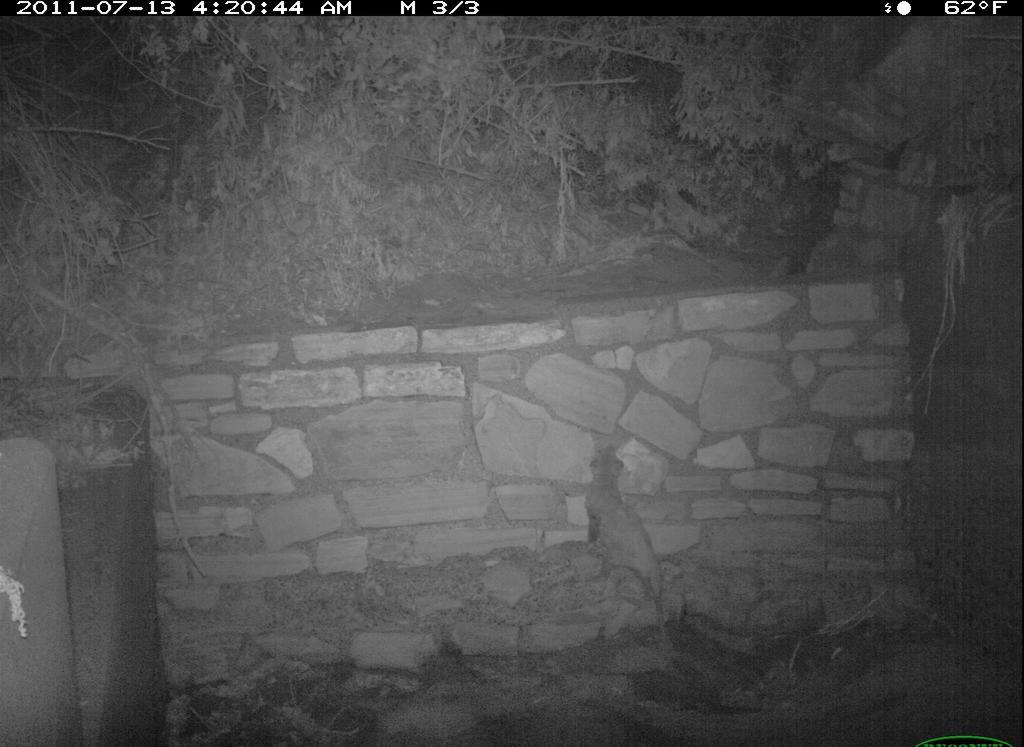opossum: (573, 439, 682, 658)
